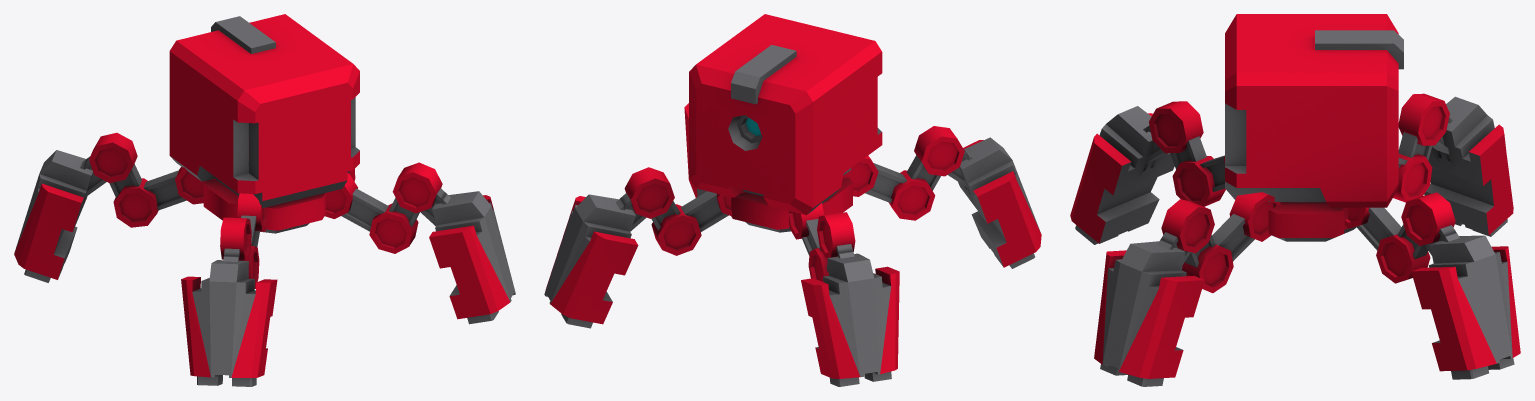
The model's file is Monster1_Idle10.obj.
3 views of the same model, side by side, from view 1: azimuth 30°, elevation 25°; view 2: azimuth 150°, elevation 25°; view 3: azimuth 270°, elevation 25° (orthographic). The views are drawn at different scales.
Parts seen in each view (by area): view 1: Box006, Object021, Object017, Object025, Object020, Object028, Object027, Object018, Object019, Object026, Object024, Object022; view 2: Box006, Object025, Object013, Object021, Object016, Object024, Object023, Object015, Object022, Object028, Object014, Object026 (+1 smaller); view 3: Box006, Object017, Object013, Object021, Object025, Object018, Object024, Object016, Object020, Object023, Object028, Object015 (+4 smaller).
Part boxes in pixels (left/top/right/bottom): Box006: left=169, top=14, right=359, bottom=233; Object021: left=181, top=260, right=277, bottom=386; Object017: left=429, top=191, right=515, bottom=324; Object025: left=14, top=150, right=92, bottom=282; Object020: left=392, top=162, right=450, bottom=226; Object028: left=80, top=132, right=137, bottom=197; Object027: left=109, top=164, right=158, bottom=227; Object018: left=325, top=173, right=388, bottom=231; Object019: left=369, top=198, right=419, bottom=253; Object026: left=143, top=167, right=215, bottom=210; Object024: left=220, top=217, right=251, bottom=261; Object022: left=237, top=193, right=266, bottom=246; Box006: left=689, top=14, right=882, bottom=232; Object025: left=801, top=253, right=899, bottom=386; Object013: left=544, top=194, right=638, bottom=328; Object021: left=958, top=137, right=1041, bottom=268; Object016: left=615, top=167, right=674, bottom=231; Object024: left=914, top=126, right=972, bottom=187; Object023: left=889, top=155, right=940, bottom=220; Object015: left=651, top=201, right=701, bottom=255; Object022: left=843, top=155, right=907, bottom=202; Object028: left=817, top=212, right=855, bottom=258; Object014: left=681, top=191, right=745, bottom=231; Object026: left=789, top=203, right=824, bottom=255; Box006: left=1225, top=14, right=1403, bottom=241; Object017: left=1094, top=241, right=1204, bottom=386; Object013: left=1411, top=235, right=1520, bottom=379; Object021: left=1070, top=106, right=1174, bottom=244; Object025: left=1424, top=96, right=1513, bottom=236; Object018: left=1212, top=192, right=1280, bottom=261; Object024: left=1143, top=101, right=1203, bottom=163; Object016: left=1401, top=192, right=1459, bottom=255; Object020: left=1157, top=199, right=1214, bottom=263; Object023: left=1170, top=136, right=1225, bottom=206; Object028: left=1398, top=93, right=1452, bottom=154; Object015: left=1376, top=224, right=1430, bottom=283.
Size of the model in its own units: 150 by 101 by 153.
